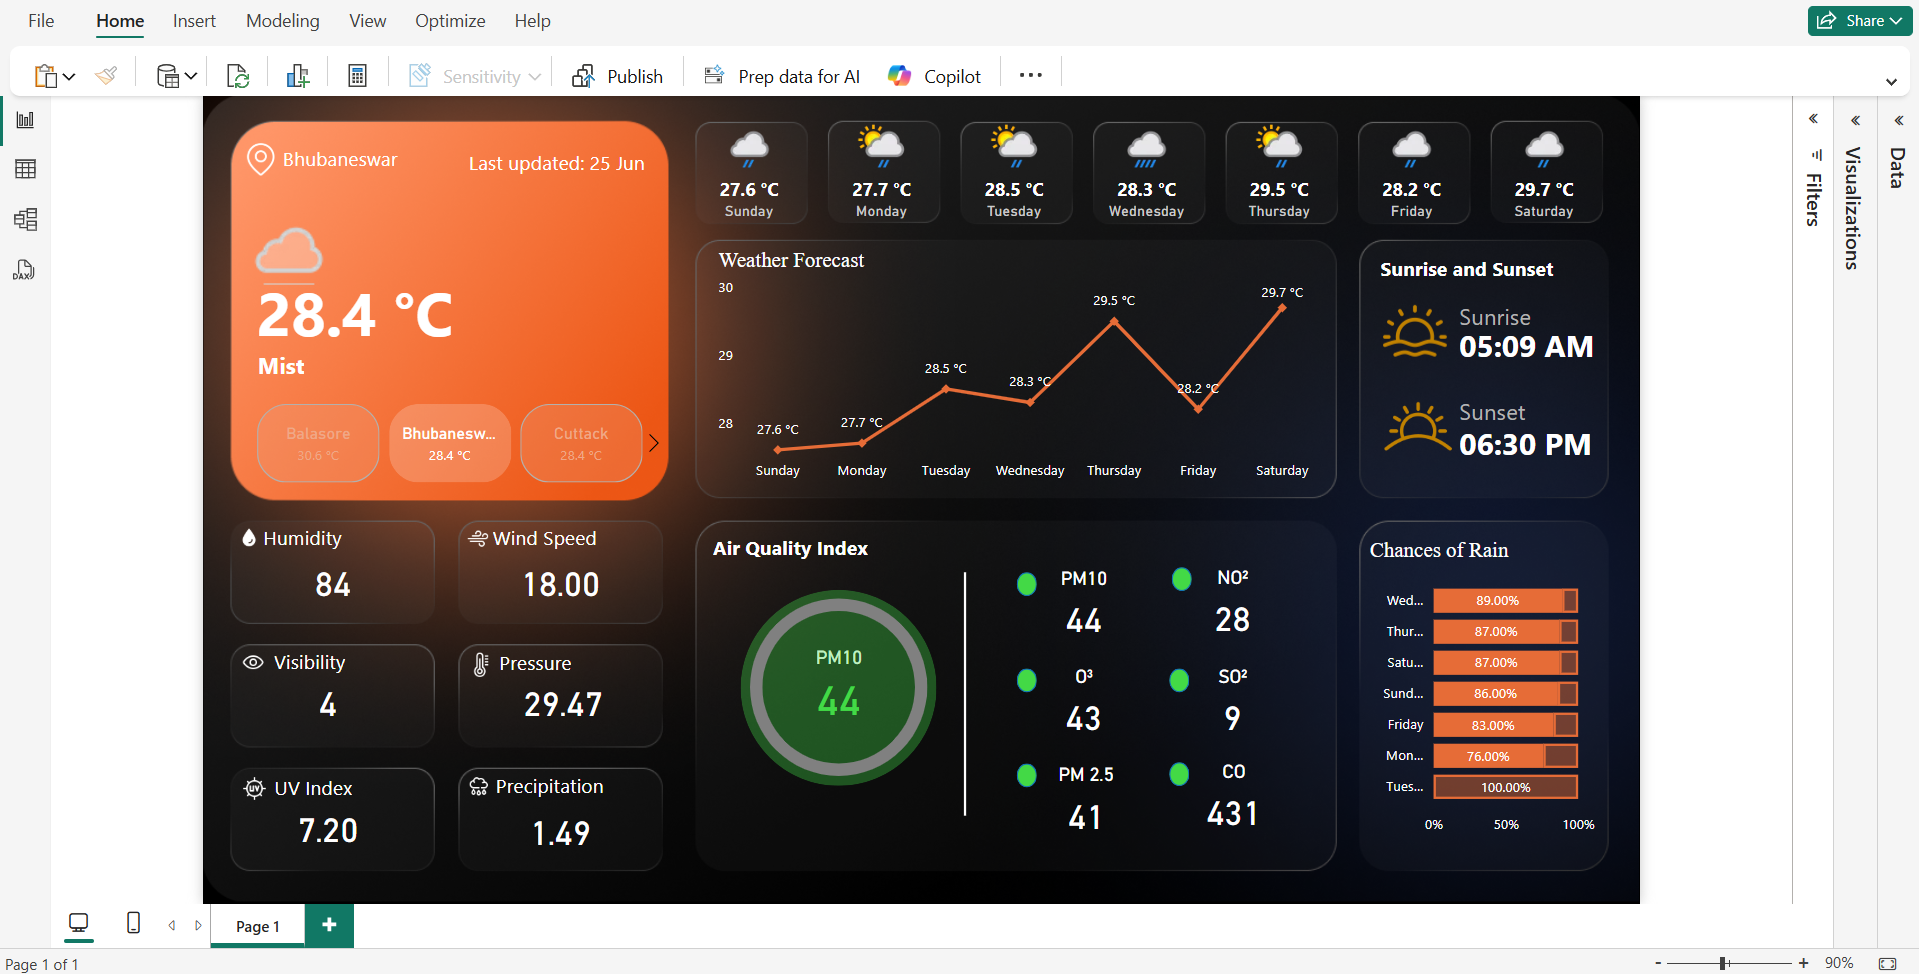

What the dashboard file says about the page in this screenshot:
{"tool":"powerbi","page":{"name":"Page 1","canvas":[1280,720],"ordinal":0},"visuals":[{"type":"advancedSlicerVisual","fields":{"Values":["locations.location.name"]},"box":[23.3,269,393.8,81],"z":0},{"type":"shape","box":[47.7,152,226.5,79],"z":1000},{"type":"shape","box":[49.2,216.1,275.7,46.2],"z":2000},{"type":"shape","box":[71.5,32.8,195.2,46.2],"z":3000},{"type":"shape","box":[210.2,35.8,183.3,46.2],"z":4000},{"type":"image","box":[32.8,35.8,38.8,41.7],"z":5000},{"type":"cardVisual","fields":{"Data":["Min(current.current.condition.icon)"]},"box":[7.5,77.5,128.2,95.4],"z":6000},{"type":"image","box":[28.3,375.6,26.8,35.8],"z":7000},{"type":"shape","box":[247,590.1,109.8,46.7],"z":8000},{"type":"shape","box":[52.2,591.7,80.5,46.2],"z":9000},{"type":"shape","box":[257.8,481.4,70.1,46.2],"z":10000},{"type":"shape","box":[61.1,479.9,65.6,46.2],"z":11000},{"type":"shape","box":[244.3,370.5,107,45.3],"z":12000},{"type":"shape","box":[53.7,369.6,70.1,46.2],"z":13000},{"type":"image","box":[230.5,377.4,28.8,32.9],"z":14000},{"type":"image","box":[26.8,488.9,35.8,31.3],"z":15000},{"type":"image","box":[228,490.4,38.8,31.3],"z":16000},{"type":"image","box":[22.4,600.7,47.7,31.3],"z":17000},{"type":"image","box":[226.4,599.7,39.8,30.2],"z":18000},{"type":"card","fields":{"Values":["Sum(current.current.humidity)"]},"box":[41.2,396.6,149.6,72.7],"z":19000},{"type":"card","fields":{"Values":["Sum(current.current.wind_kph)"]},"box":[244.3,396.6,149.6,72.7],"z":20000},{"type":"card","fields":{"Values":["Sum(current.current.pressure_in)"]},"box":[245.6,503.6,149.6,72.7],"z":21000},{"type":"card","fields":{"Values":["Sum(current.current.vis_km)"]},"box":[37,503.6,149.6,72.7],"z":22000},{"type":"card","fields":{"Values":["Sum(current.current.uv)"]},"box":[37,616.1,149.6,72.7],"z":23000},{"type":"card","fields":{"Values":["Sum(current.current.precip_mm)"]},"box":[244.3,617.5,149.6,72.7],"z":24000},{"type":"advancedSlicerVisual","fields":{"Values":["forecast_days._day name"]},"box":[426.8,12.1,832.4,114.6],"z":25000},{"type":"lineChart","title":"Weather Forecast","fields":{"Category":["forecast_days._day name"],"Y":["Sum(forecast_days.forecast.forecastday.day.avgtemp_c)"]},"box":[454,135.5,542.2,215.6],"z":26000},{"type":"shape","box":[1048.4,129,161.7,47.4],"z":27000},{"type":"shape","box":[1118.7,181.3,156.8,80],"z":28000},{"type":"shape","box":[1118.7,267.8,156.8,80],"z":29000},{"type":"shape","box":[1118.7,181.3,156.8,27.8],"z":30000},{"type":"shape","box":[1118.7,266.2,156.8,27.8],"z":31000},{"type":"image","box":[1033.7,249.9,96.4,89.8],"z":32000},{"type":"image","box":[1045.2,176.4,68.6,67],"z":33000},{"type":"hundredPercentStackedBarChart","title":"Chances of Rain","fields":{"Y":["Sum(forecast_days.forecast.forecastday.day.daily_chance_of_rain)","_measures.Left_value"],"Category":["forecast_days._day name"]},"box":[1033.7,393.6,210.7,272.7],"z":34000},{"type":"shape","box":[454,377.2,161.7,47.4],"z":35000},{"type":"card","title":"NO²","fields":{"Values":["Sum(current.current.air_quality.no2)"]},"box":[842.7,418.1,148.6,71.9],"z":36000},{"type":"card","title":"PM 2.5","fields":{"Values":["Sum(current.current.air_quality.pm2_5)"]},"box":[712,594.4,148.6,71.9],"z":37000},{"type":"card","title":"SO²","fields":{"Values":["Sum(current.current.air_quality.so2)"]},"box":[842.7,506.3,148.6,71.9],"z":38000},{"type":"card","title":"O³","fields":{"Values":["Sum(current.current.air_quality.o3)"]},"box":[710.4,506.3,148.6,71.9],"z":39000},{"type":"card","title":"PM10","fields":{"Values":["Sum(current.current.air_quality.pm10)"]},"box":[710.4,419.7,148.6,71.9],"z":40000},{"type":"card","title":"CO","fields":{"Values":["Sum(current.current.air_quality.co)"]},"box":[844.3,591.2,148.6,71.9],"z":41000},{"type":"shape","box":[725.1,424.6,18,21.2],"z":42000},{"type":"shape","box":[725.1,509.5,18,21.2],"z":43000},{"type":"shape","box":[725.1,594.4,18,21.2],"z":44000},{"type":"shape","box":[862.3,419.7,18,21.2],"z":45000},{"type":"shape","box":[860.6,509.5,18,21.2],"z":46000},{"type":"shape","box":[860.6,592.8,18,21.2],"z":47000},{"type":"shape","box":[597.7,424.6,161.7,217.2],"z":48000},{"type":"card","title":"PM10","fields":{"Values":["Sum(current.current.air_quality.pm10)"]},"box":[491.6,489.9,148.6,71.9],"z":49000},{"type":"shape","box":[478.5,439.3,174.7,174.7],"z":50000},{"type":"donutChart","title":"PM10","fields":{"Y":["_measures.Left_value_chart","Sum(current.current.air_quality.pm10)"]},"box":[390.3,423,351.1,207.4],"z":51000}]}

Visuals, with their boxes on the page's 1280x720 design canvas (x1, y1, x2, y2). These are canvas units, not pixel positions in the 1919x974 screenshot, which may show the page scaled, cropped or inside an application window:
advancedSlicerVisual - locations.location.name: (23,269,417,350)
shape: (48,152,274,231)
shape: (49,216,325,262)
shape: (72,33,267,79)
shape: (210,36,394,82)
image: (33,36,72,78)
cardVisual - Min(current.current.condition.icon): (8,78,136,173)
image: (28,376,55,411)
shape: (247,590,357,637)
shape: (52,592,133,638)
shape: (258,481,328,528)
shape: (61,480,127,526)
shape: (244,370,351,416)
shape: (54,370,124,416)
image: (230,377,259,410)
image: (27,489,63,520)
image: (228,490,267,522)
image: (22,601,70,632)
image: (226,600,266,630)
card - Sum(current.current.humidity): (41,397,191,469)
card - Sum(current.current.wind_kph): (244,397,394,469)
card - Sum(current.current.pressure_in): (246,504,395,576)
card - Sum(current.current.vis_km): (37,504,187,576)
card - Sum(current.current.uv): (37,616,187,689)
card - Sum(current.current.precip_mm): (244,618,394,690)
advancedSlicerVisual - forecast_days._day name: (427,12,1259,127)
"Weather Forecast" lineChart: (454,136,996,351)
shape: (1048,129,1210,176)
shape: (1119,181,1276,261)
shape: (1119,268,1276,348)
shape: (1119,181,1276,209)
shape: (1119,266,1276,294)
image: (1034,250,1130,340)
image: (1045,176,1114,243)
"Chances of Rain" hundredPercentStackedBarChart: (1034,394,1244,666)
shape: (454,377,616,425)
"NO²" card: (843,418,991,490)
"PM 2.5" card: (712,594,861,666)
"SO²" card: (843,506,991,578)
"O³" card: (710,506,859,578)
"PM10" card: (710,420,859,492)
"CO" card: (844,591,993,663)
shape: (725,425,743,446)
shape: (725,510,743,531)
shape: (725,594,743,616)
shape: (862,420,880,441)
shape: (861,510,879,531)
shape: (861,593,879,614)
shape: (598,425,759,642)
"PM10" card: (492,490,640,562)
shape: (478,439,653,614)
"PM10" donutChart: (390,423,741,630)
